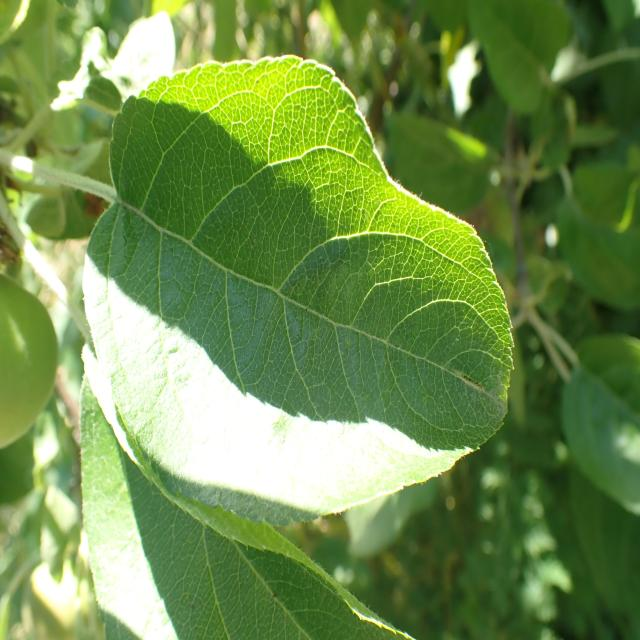healthy: (80, 55, 515, 529), (80, 340, 416, 638), (562, 333, 640, 515), (0, 271, 60, 448)
